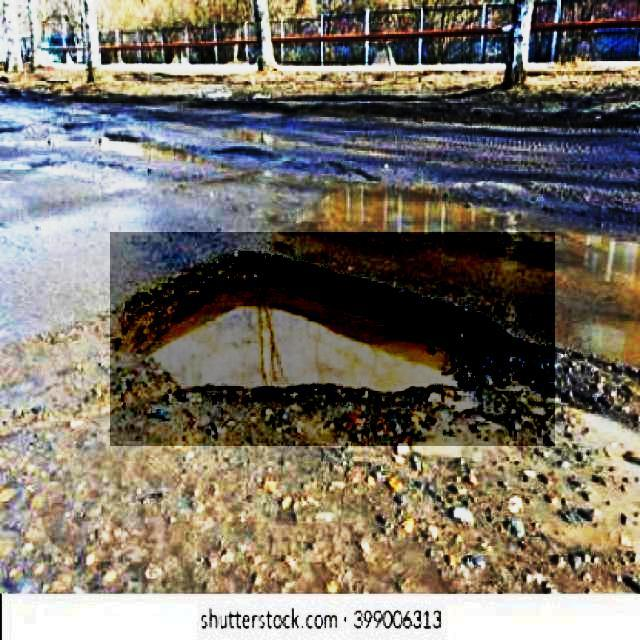pothole: (110, 232, 555, 446)
